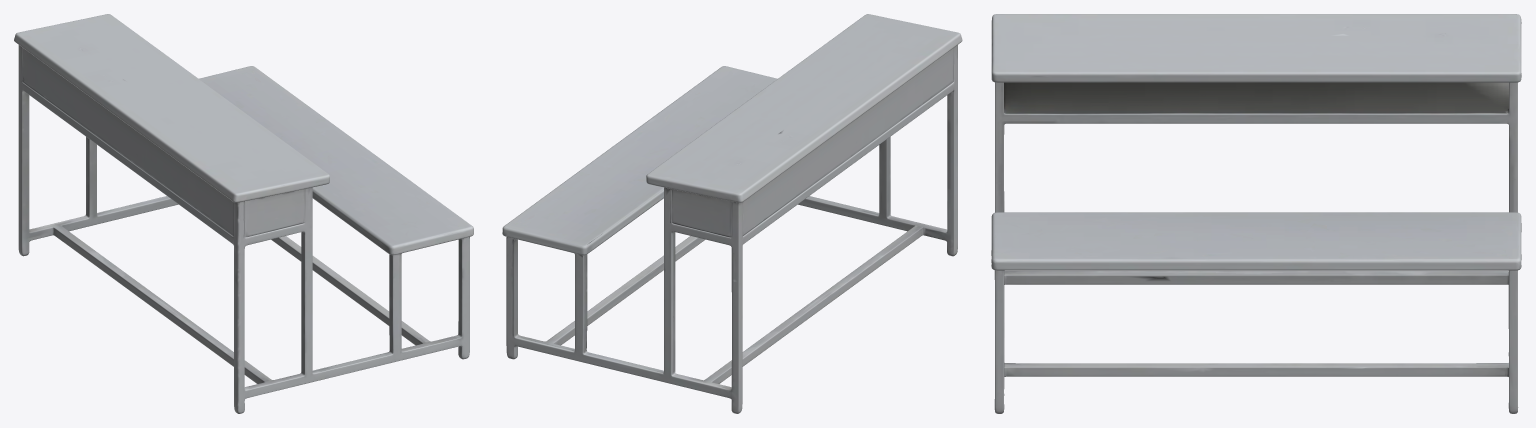
Rendered from Deskbench.glb.
3 renders of one model, left to right at view 1: azimuth 30°, elevation 25°; view 2: azimuth 150°, elevation 25°; view 3: azimuth 270°, elevation 25°, orthographic. The views are drawn at different scales.
Visible parts, largest first — view 1: node_0; view 2: node_0; view 3: node_0.
Boxes of the visible parts, left/top/right/bottom form: node_0: left=14, top=14, right=473, bottom=413; node_0: left=502, top=14, right=962, bottom=413; node_0: left=991, top=14, right=1521, bottom=413.
Bounding box in the file's own units: 0.5832 × 0.5133 × 0.931.
1 material, 1 textured.
